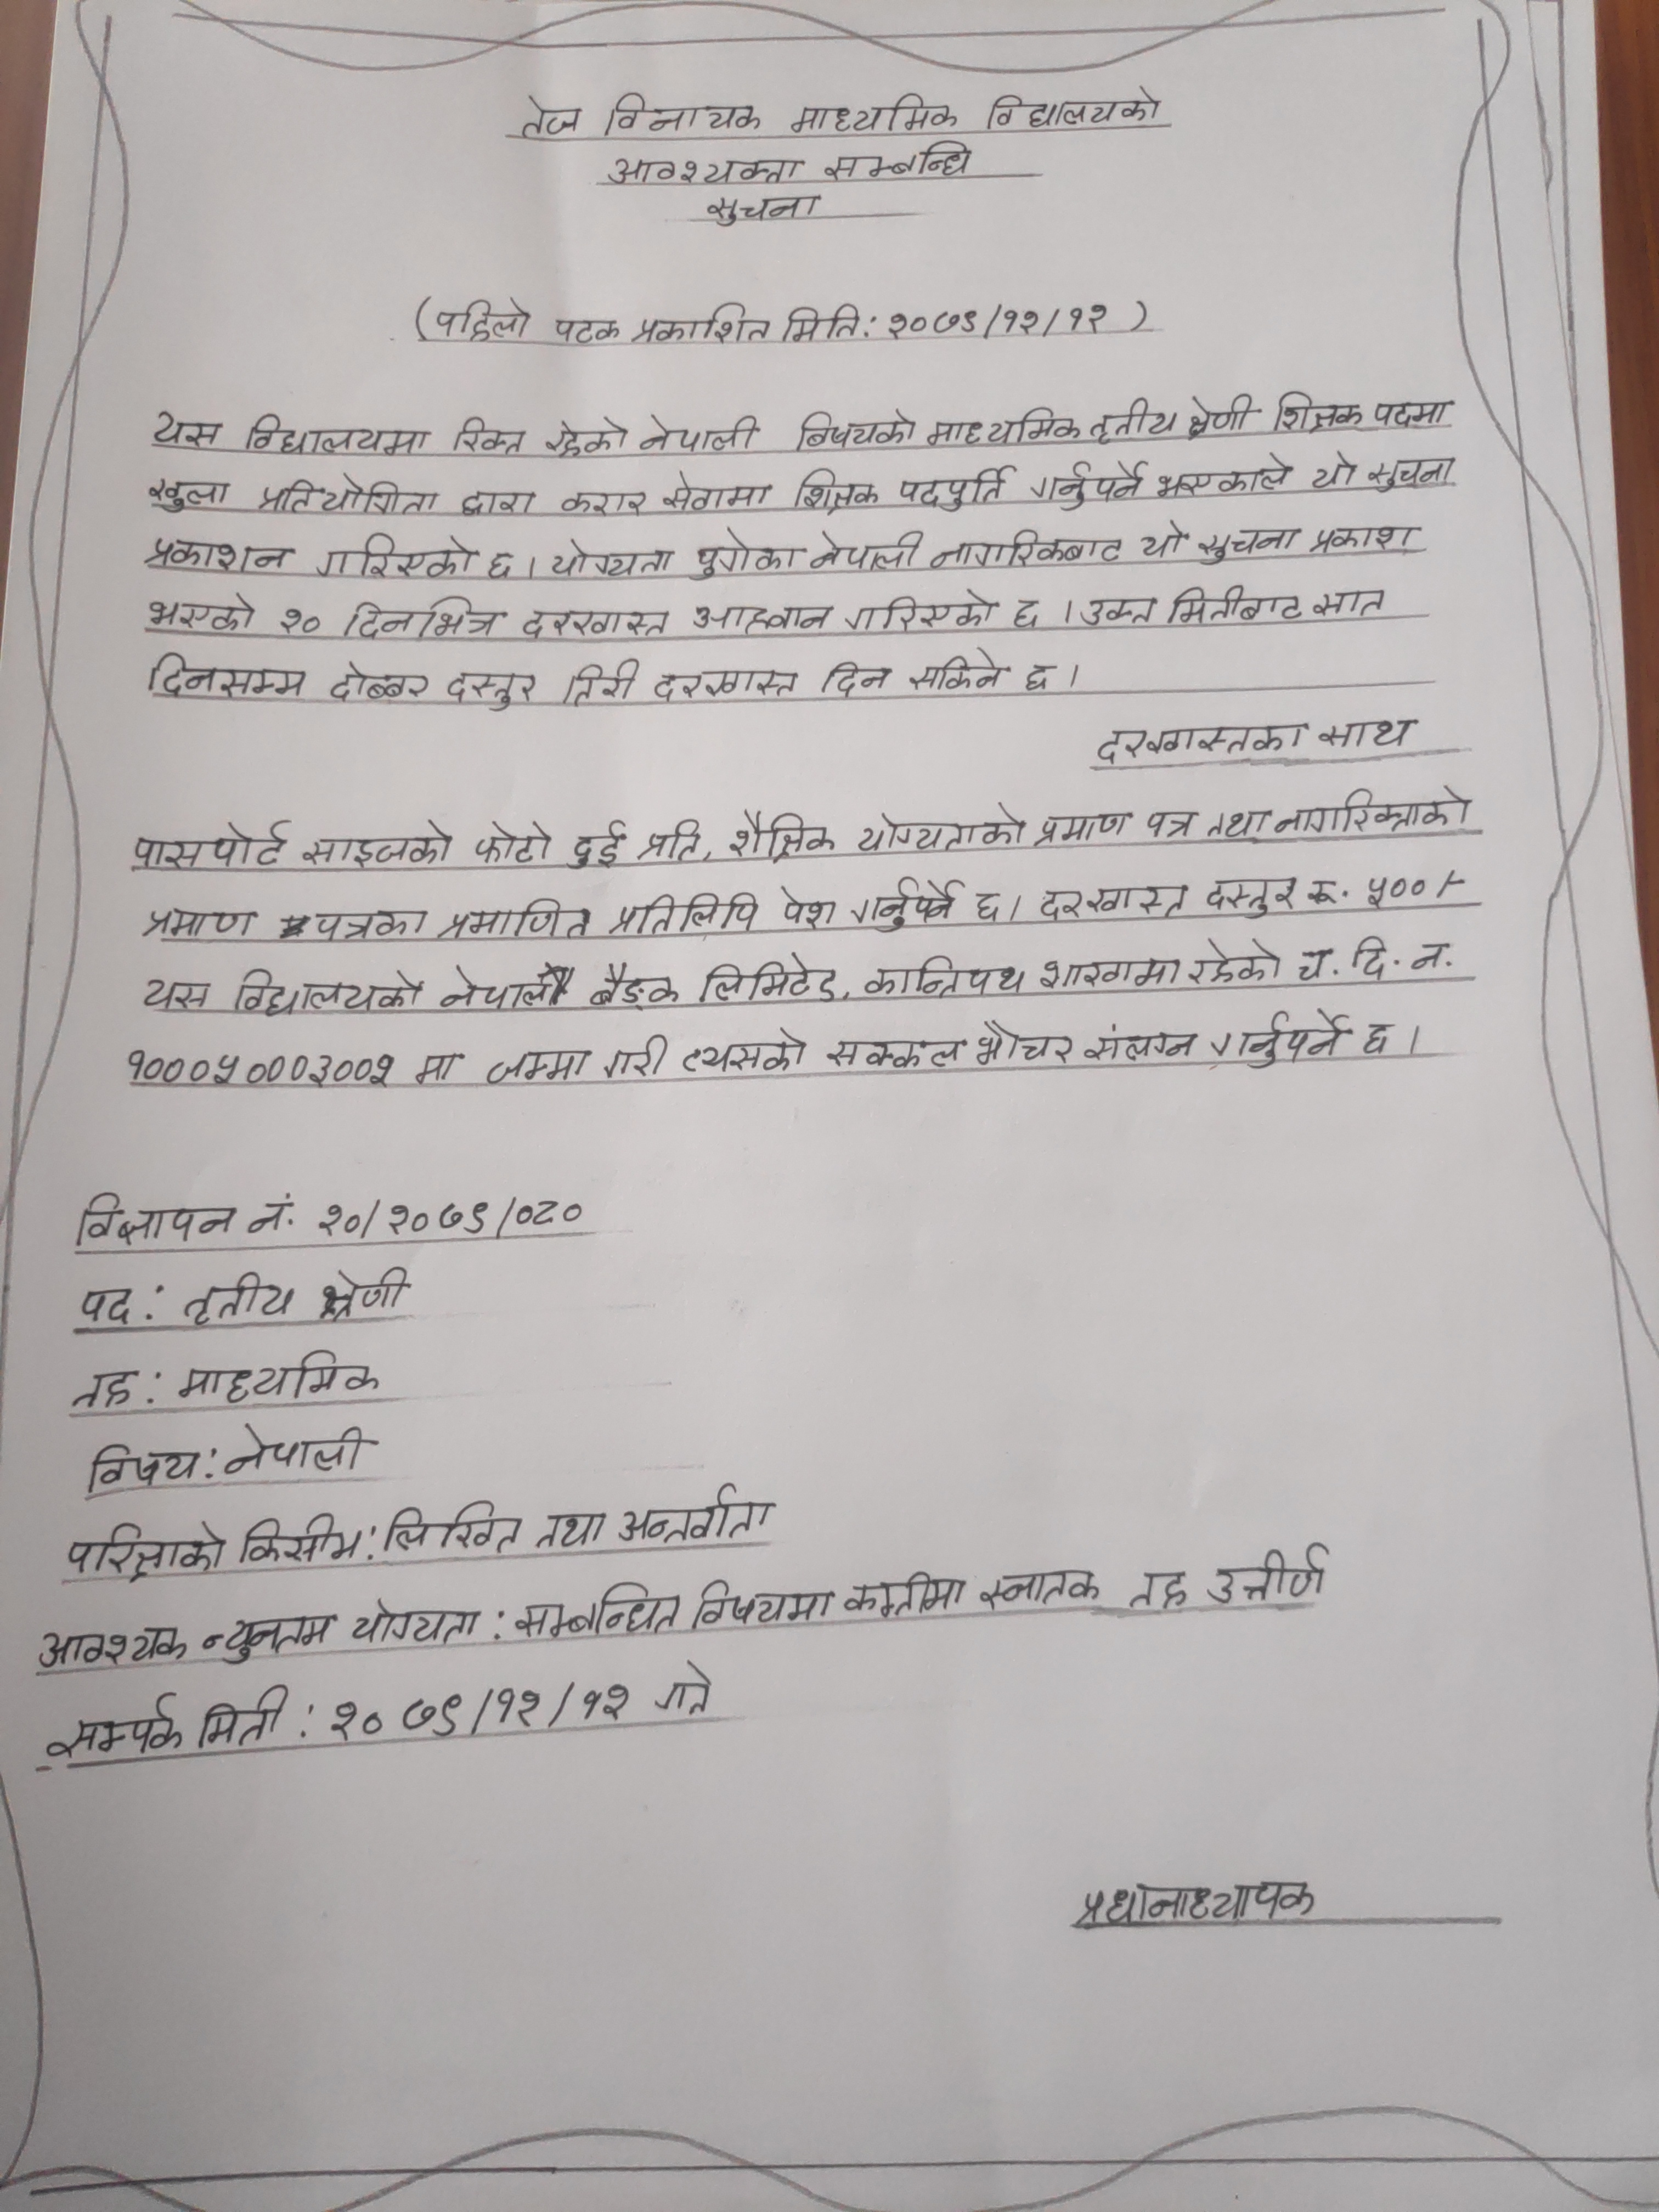text: (321, 1677, 636, 1740), (122, 1038, 401, 1090), (1075, 1878, 1323, 1935), (315, 1190, 587, 1233), (58, 1519, 232, 1587), (173, 1350, 389, 1402), (511, 1578, 681, 1641), (42, 1689, 185, 1761), (617, 1479, 779, 1540), (71, 1190, 234, 1249), (218, 1416, 383, 1474), (1279, 787, 1480, 834), (1290, 930, 1457, 986), (242, 411, 432, 460), (1204, 1007, 1351, 1069), (885, 301, 1114, 341), (146, 648, 310, 704), (985, 84, 1166, 132), (929, 529, 1131, 573), (300, 815, 460, 869), (687, 1578, 836, 1635), (228, 968, 425, 1012), (312, 531, 481, 582), (694, 951, 842, 1008), (1206, 1545, 1333, 1611), (854, 806, 1028, 853), (254, 474, 441, 517), (380, 1505, 528, 1559), (200, 1611, 349, 1665), (342, 599, 504, 648), (129, 820, 291, 869), (439, 899, 598, 948), (861, 953, 1032, 998), (31, 1625, 188, 1674), (598, 91, 765, 136), (606, 890, 762, 937), (789, 92, 957, 136), (840, 592, 1007, 636), (638, 404, 763, 462), (924, 404, 1077, 451), (234, 1514, 362, 1569), (181, 1270, 300, 1329), (350, 1599, 488, 1649), (606, 152, 805, 186), (821, 139, 985, 181), (141, 536, 298, 580), (843, 876, 962, 934), (723, 805, 845, 860), (627, 301, 775, 347), (437, 963, 579, 1010), (692, 528, 803, 587), (310, 1263, 418, 1324), (87, 1440, 209, 1494), (1154, 451, 1297, 496), (1030, 460, 1145, 516), (192, 1684, 291, 1749), (842, 1569, 967, 1620), (678, 1028, 816, 1073), (1159, 585, 1305, 627), (1032, 881, 1190, 920), (981, 1566, 1105, 1615), (974, 1019, 1073, 1078), (828, 1035, 965, 1076), (814, 524, 924, 577), (662, 470, 777, 519), (793, 409, 920, 453), (549, 538, 680, 580), (519, 608, 676, 643), (1199, 869, 1304, 921), (329, 657, 437, 707), (145, 592, 260, 639), (680, 601, 835, 636), (647, 669, 802, 704), (894, 467, 1016, 510), (1077, 1019, 1199, 1062), (138, 900, 254, 946), (1187, 935, 1288, 988), (1037, 956, 1187, 991), (310, 907, 434, 949), (484, 1042, 589, 1090), (584, 960, 683, 1010), (439, 665, 542, 714), (699, 192, 830, 228), (904, 650, 1014, 691), (1194, 523, 1305, 563), (1274, 385, 1368, 432), (789, 469, 887, 514), (648, 1658, 720, 1719), (1087, 397, 1183, 442), (547, 411, 636, 458), (469, 820, 558, 867), (75, 1275, 145, 1334), (1305, 519, 1422, 554), (558, 660, 638, 711), (436, 300, 530, 341), (775, 303, 864, 347), (141, 475, 237, 516), (1366, 455, 1464, 491), (598, 1035, 666, 1087), (772, 883, 842, 934), (525, 1508, 608, 1550), (634, 820, 706, 869), (136, 972, 213, 1017), (817, 657, 896, 700), (566, 819, 629, 873), (68, 1364, 139, 1411), (453, 413, 533, 455), (152, 411, 223, 456), (558, 486, 650, 521), (516, 94, 579, 145), (1121, 1568, 1194, 1609), (1030, 812, 1131, 841), (1183, 395, 1255, 437), (1373, 397, 1462, 430), (1358, 869, 1432, 907), (1079, 594, 1155, 631), (1312, 585, 1387, 622), (551, 312, 619, 352), (460, 488, 540, 521), (1138, 806, 1204, 846), (244, 1195, 296, 1245), (1136, 516, 1192, 563), (1206, 801, 1274, 840), (1014, 660, 1063, 700), (965, 887, 1012, 927), (1309, 451, 1356, 489), (277, 604, 331, 637), (1007, 582, 1044, 631), (1358, 1019, 1398, 1061), (410, 1049, 460, 1082), (486, 547, 518, 582)
